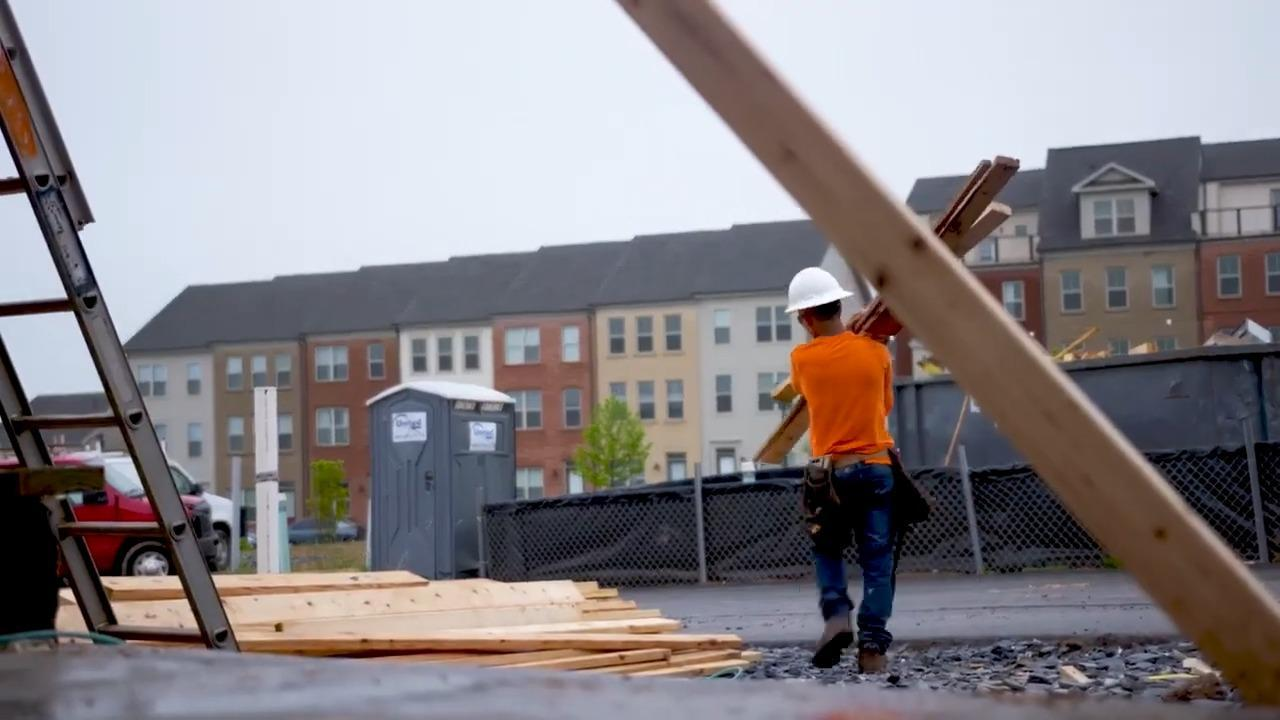Helmet: (784, 266, 856, 314)
Person: (784, 266, 900, 676)
Safety Boot: (808, 620, 854, 668), (855, 644, 893, 679)
no-vest: (790, 348, 896, 457)
